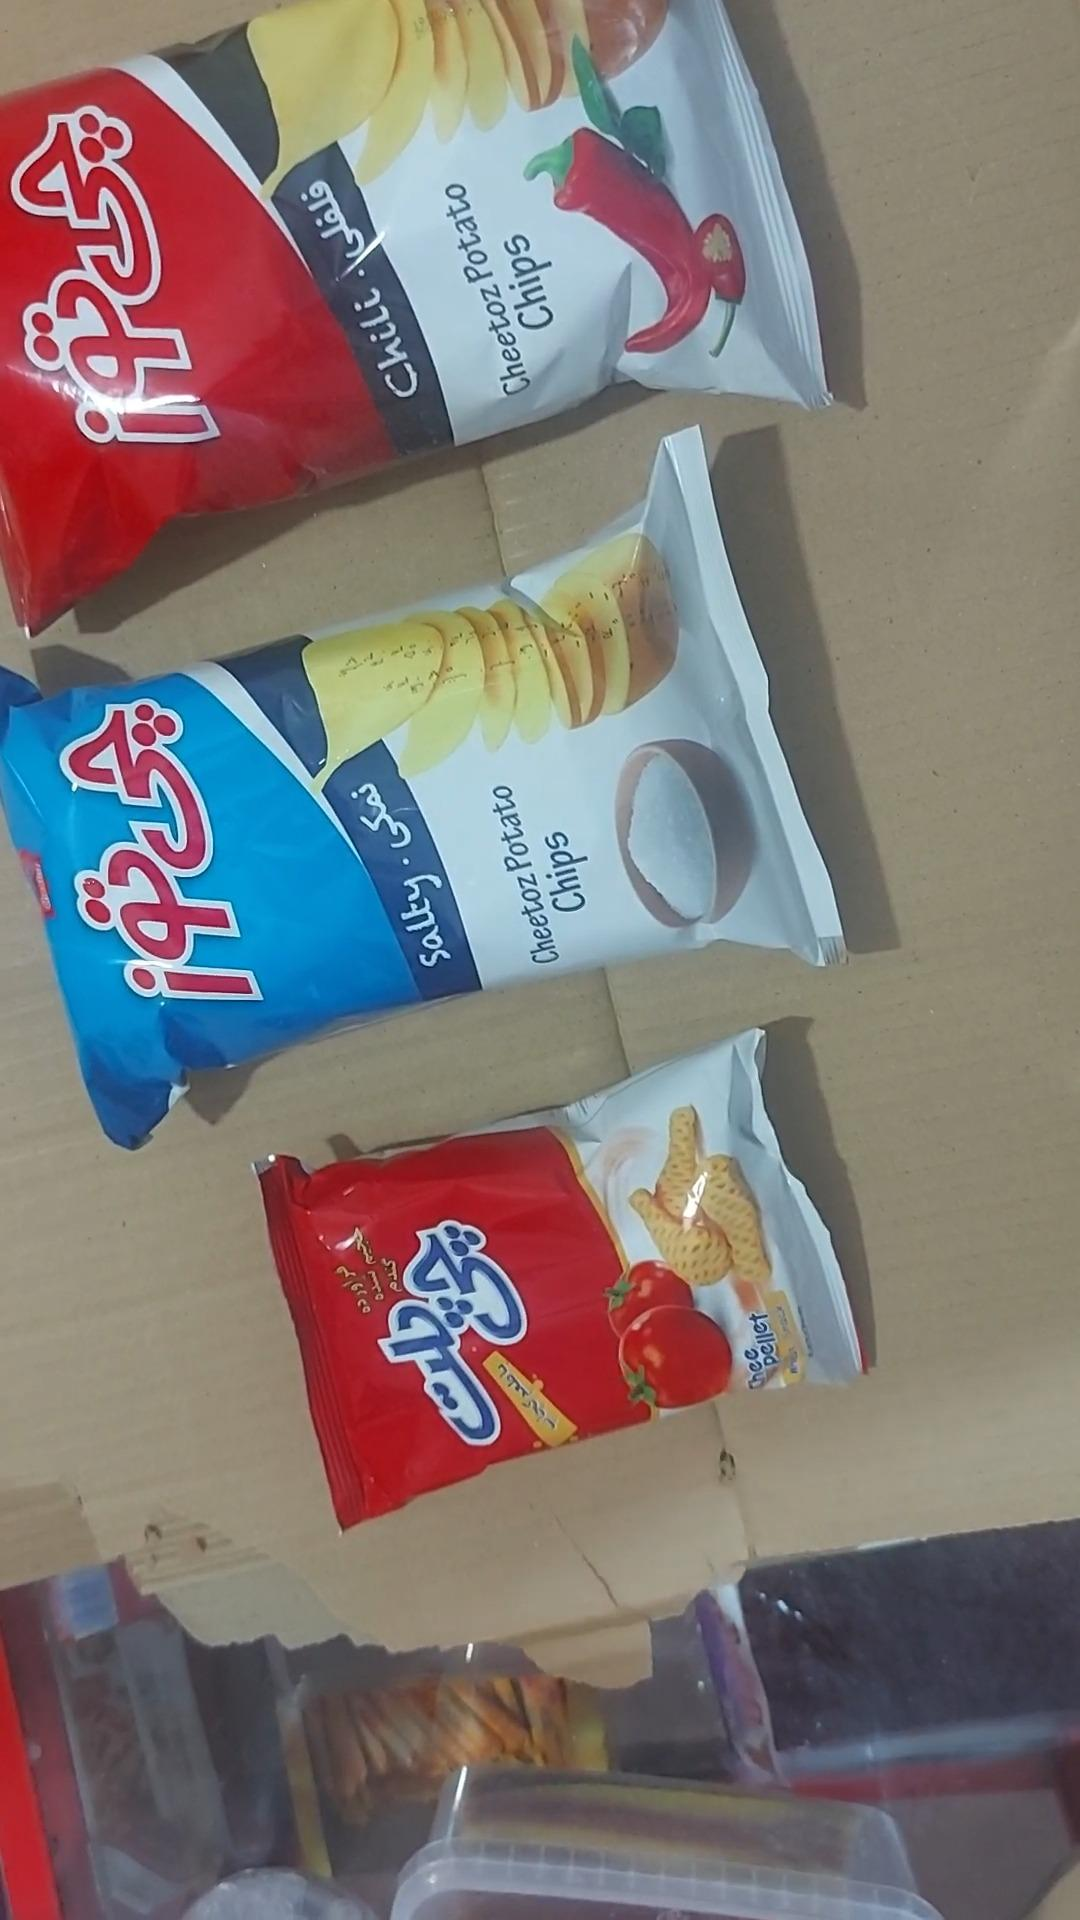Chee pellet ketchup: (253, 1030, 866, 1534)
Cheetoz chili chips: (0, 0, 841, 640)
Cheetoz salty chips: (0, 426, 849, 1156)
